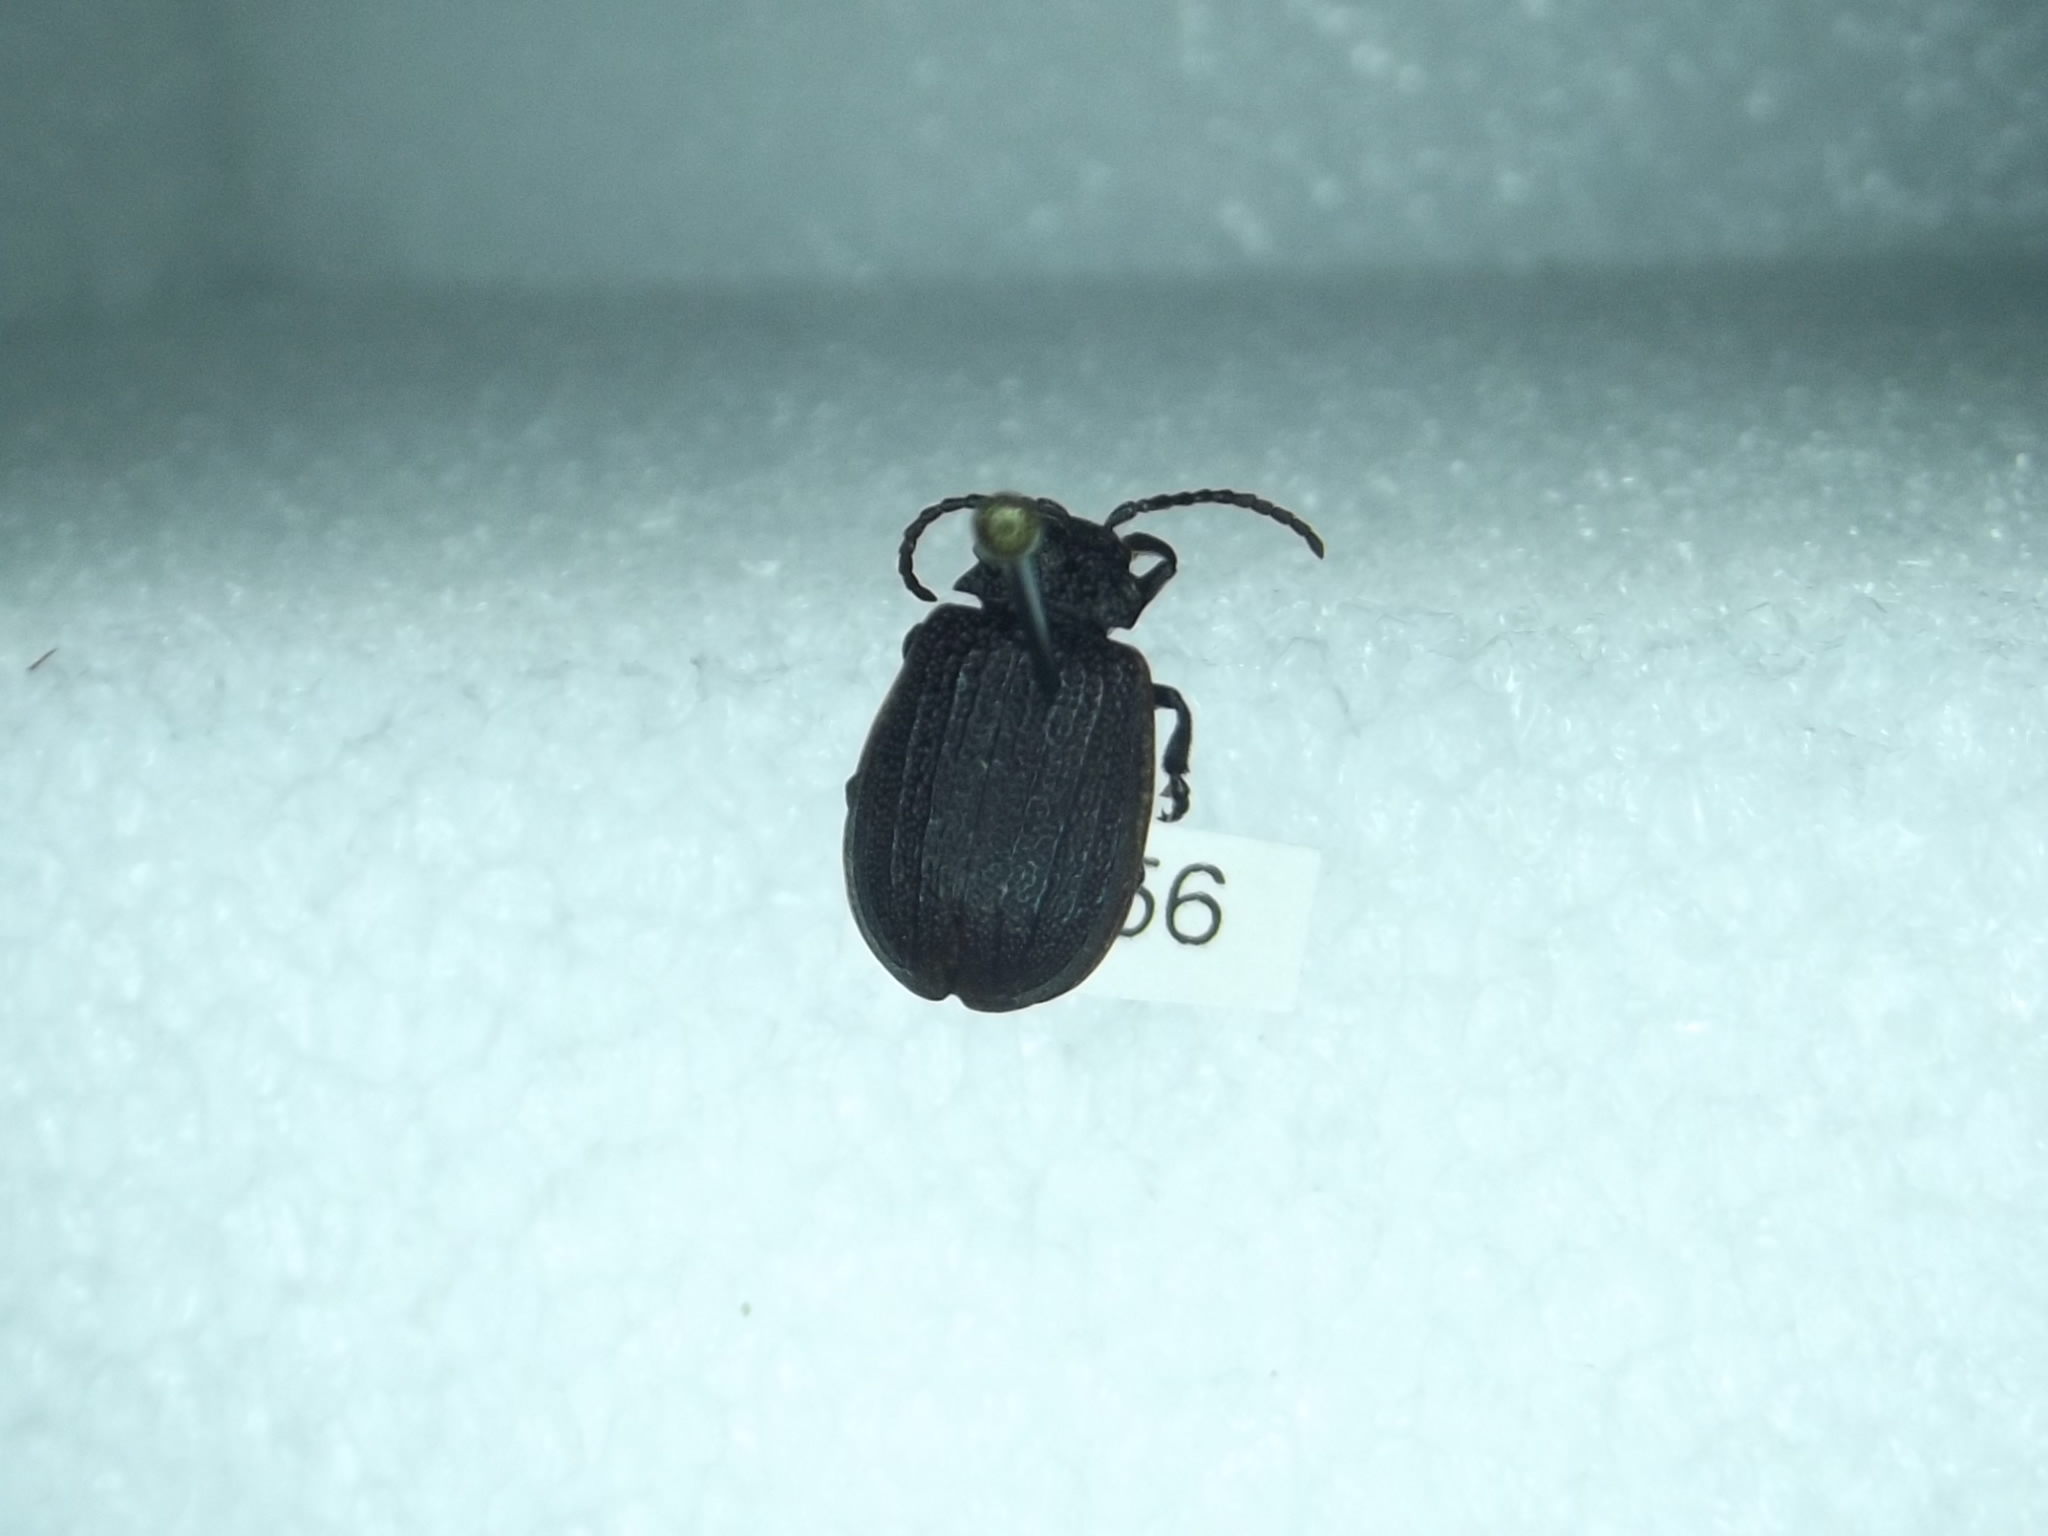Galeruca_tanaceti: (840, 466, 1334, 1020)
